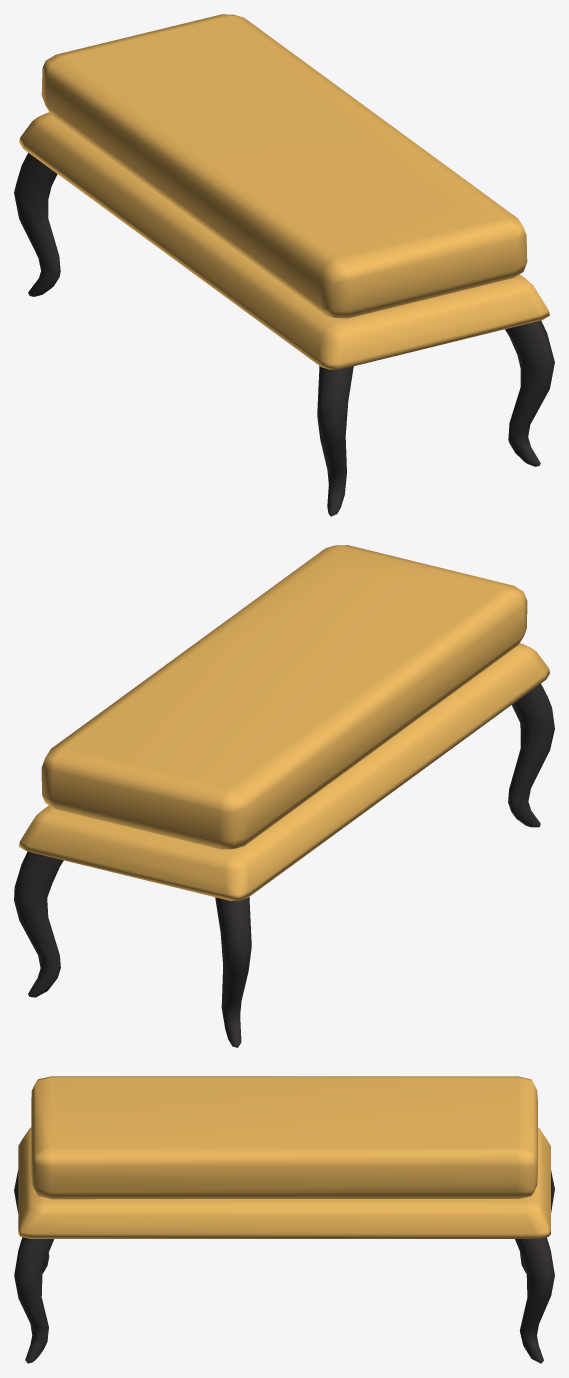
File: footstool_01_yellow.fbx
3 views of the same model, one above another, from view 1: azimuth 30°, elevation 25°; view 2: azimuth 150°, elevation 25°; view 3: azimuth 270°, elevation 25° (orthographic). The views are drawn at different scales.
Visible parts, largest first — view 1: footstool_01_yellow; view 2: footstool_01_yellow; view 3: footstool_01_yellow.
Boxes of the visible parts, x1,y1,x2,y2 form: footstool_01_yellow: (14, 14, 554, 516); footstool_01_yellow: (14, 545, 554, 1047); footstool_01_yellow: (14, 1076, 554, 1363).
Bounding box in the file's own units: 46.53 × 46.52 × 109.
Materials: 2 (2 with a texture image).
